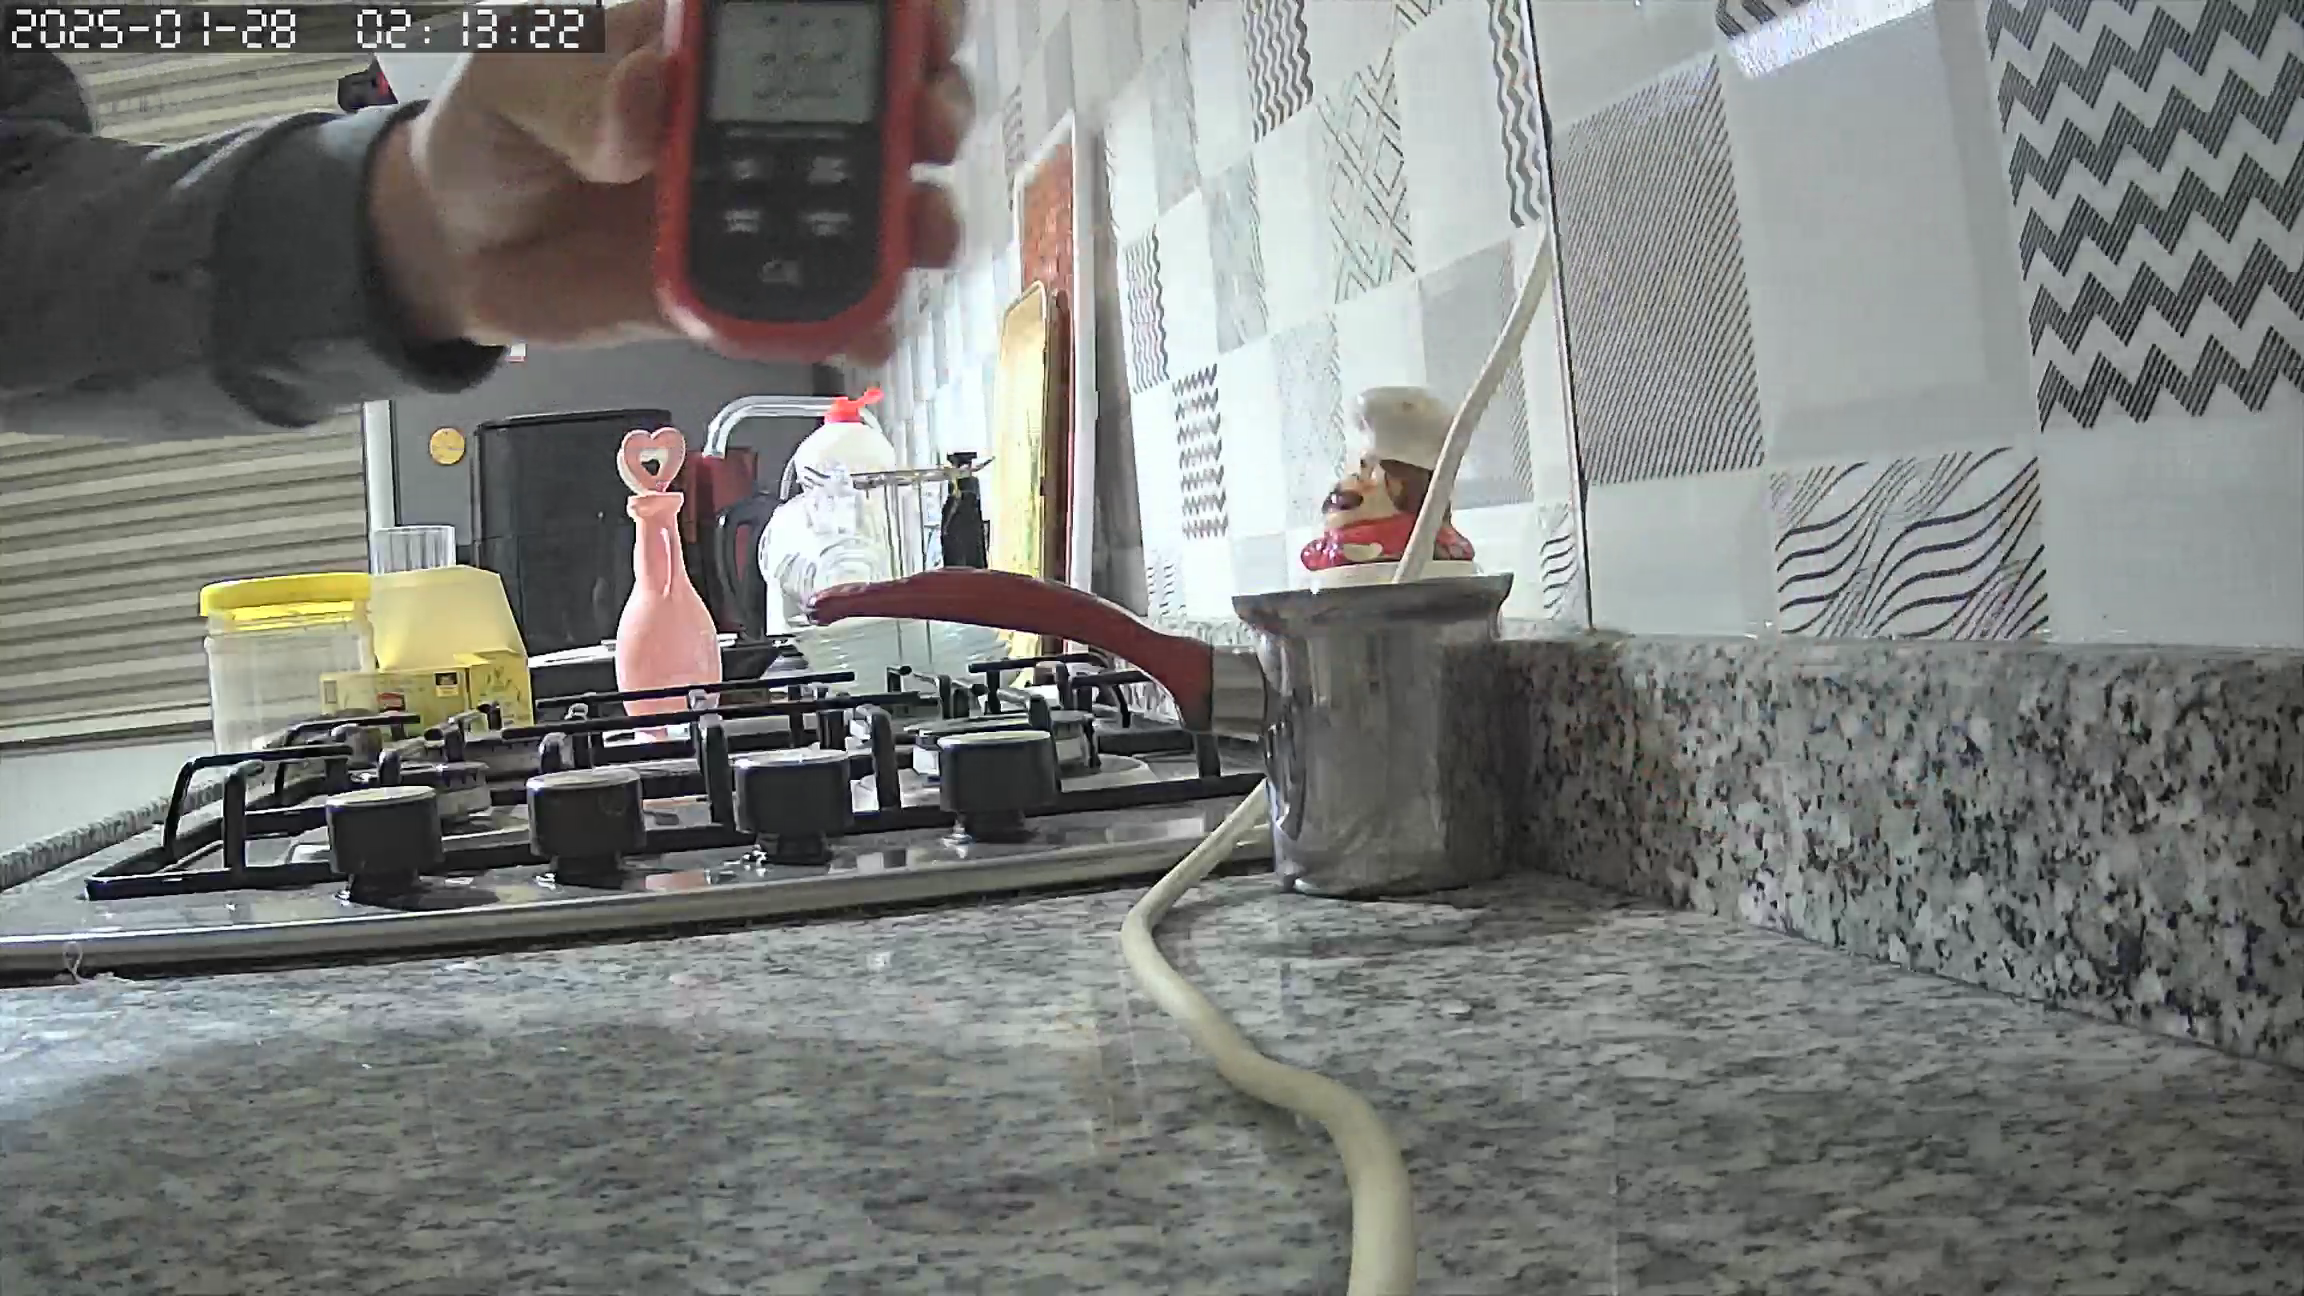screen: (709, 2, 878, 120)
